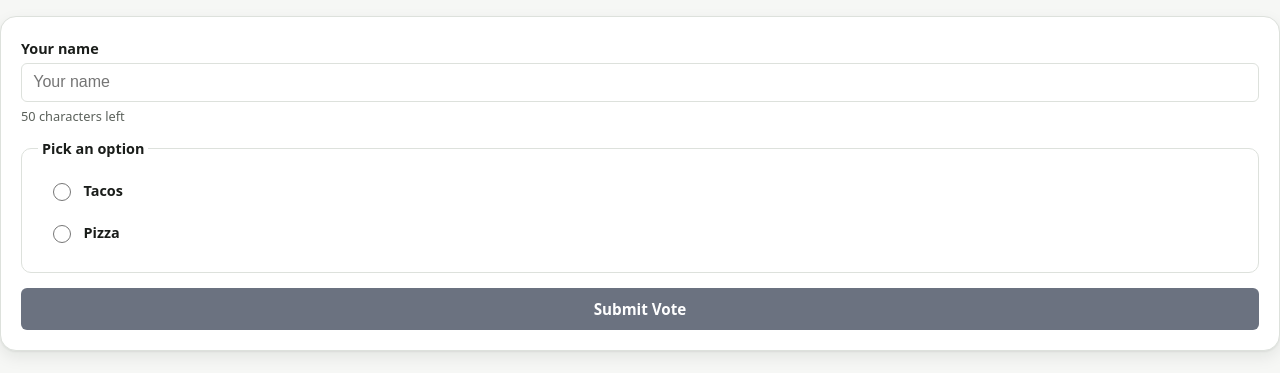
Test case: VotingForm › disables submit until both name and an option are provided
Expected: the button "Submit Vote" is disabled, [21,288,1259,330]
Type "Priya" into the field labelled "Your name".
click(640, 82); type("Priya")  # box [21,63,1259,102]
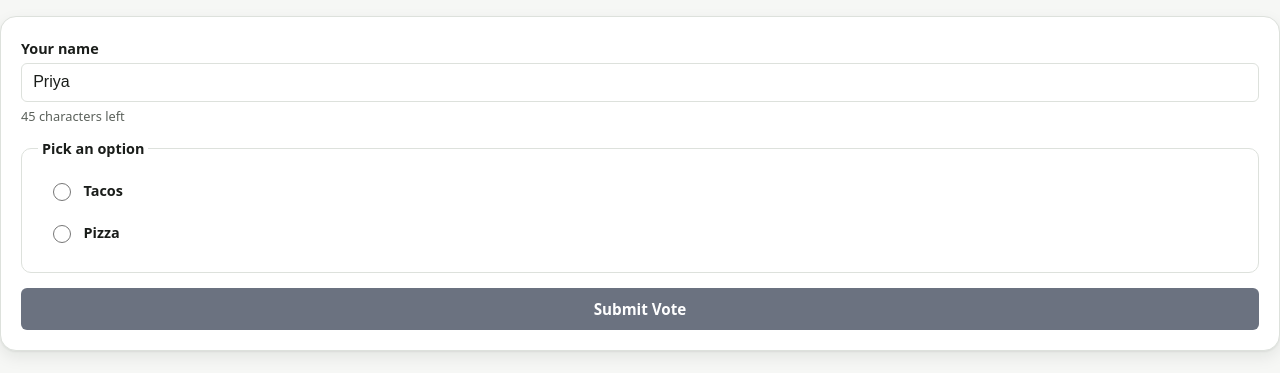
Expected: the button "Submit Vote" is disabled, [21,288,1259,330]
Click the radio button labelled "Tacos".
click(62, 192)  # box [53,183,71,201]
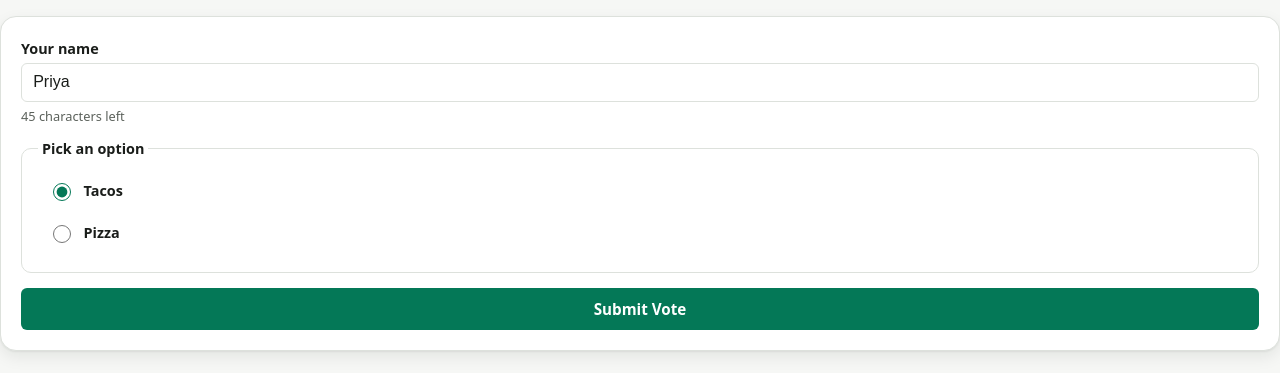
Expected: the button "Submit Vote" is enabled, [21,288,1259,330]
